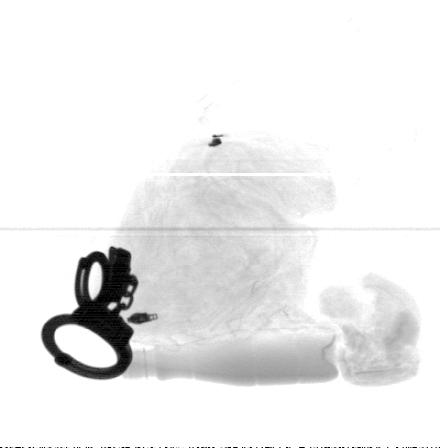HandCuffs: (40, 245, 139, 383)
